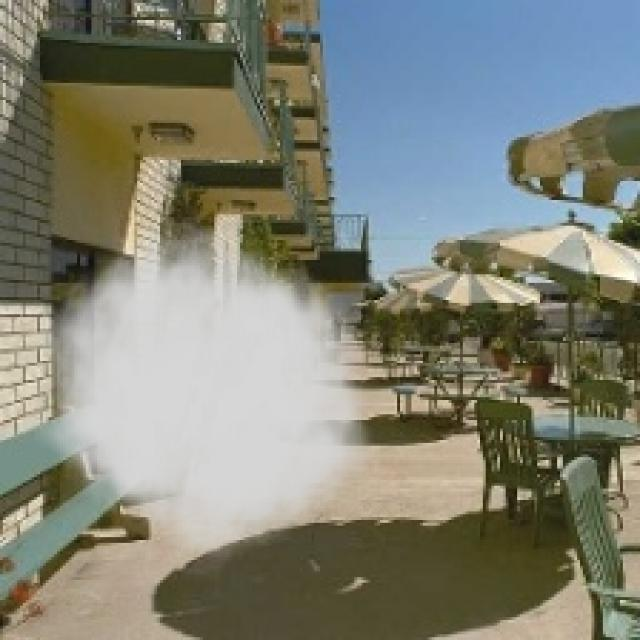smoke: (34, 212, 386, 568)
